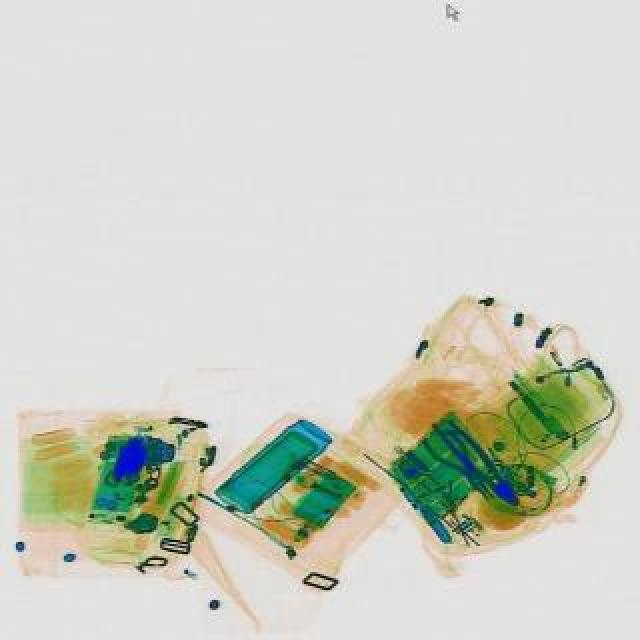wrench: (424, 408, 528, 514), (416, 418, 504, 506)
